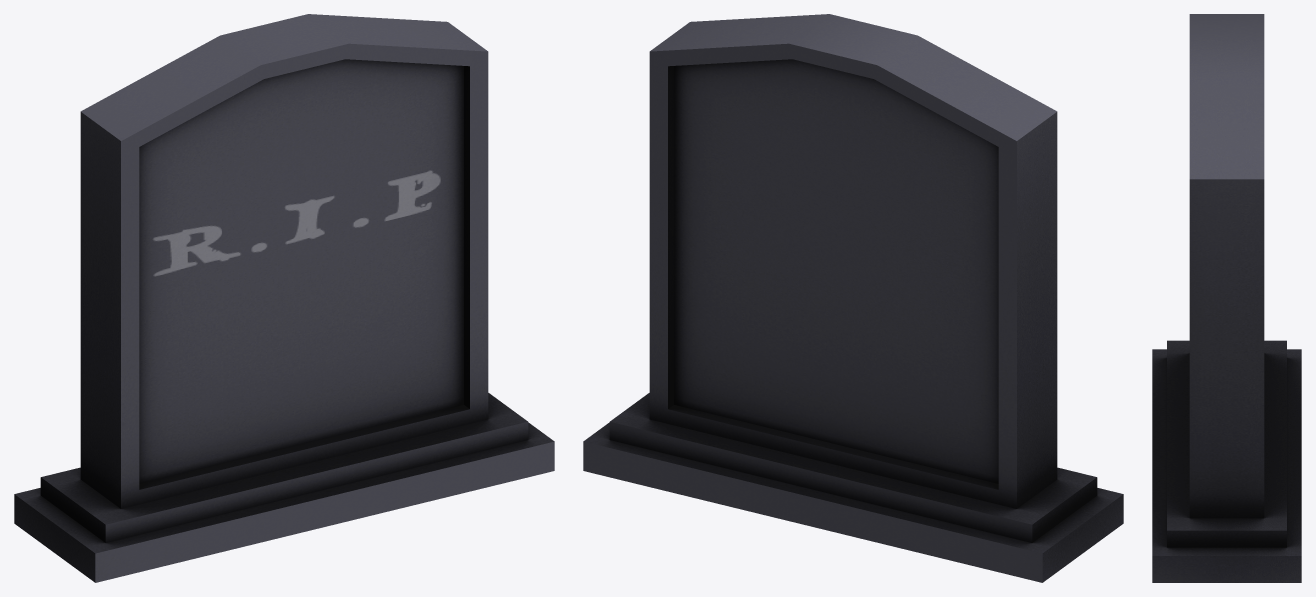
Rendered from Tomb 2.FBX.
3 views of the same model, side by side, from view 1: azimuth 30°, elevation 25°; view 2: azimuth 150°, elevation 25°; view 3: azimuth 270°, elevation 25° (orthographic). The views are drawn at different scales.
Parts seen in each view (by area): view 1: Box003; view 2: Box003; view 3: Box003.
Part boxes in pixels (x1,y1,x2,y2): Box003: [14, 14, 554, 582]; Box003: [583, 14, 1123, 582]; Box003: [1152, 14, 1301, 582].
Size of the model in its own units: 65.31 by 62.2 by 20.
1 material, 1 textured.
